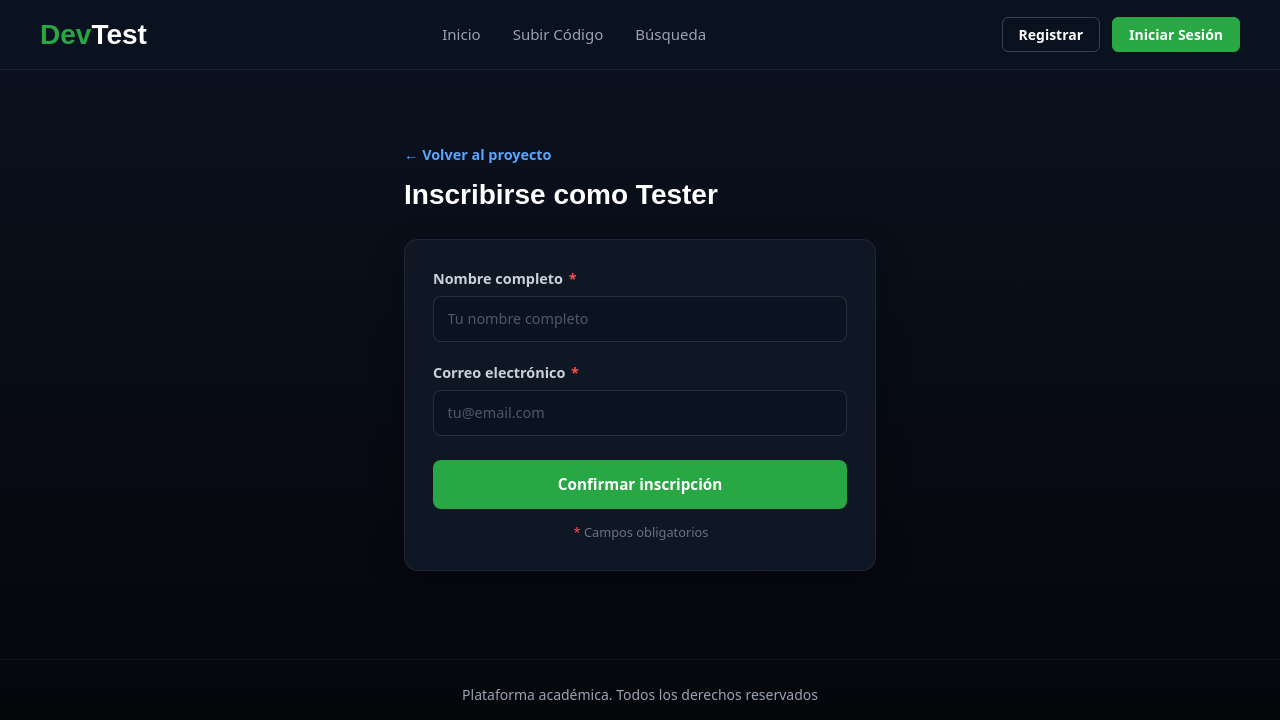
Test case: Pruebas de Integración - DT06 Seleccionar Proyecto › INT_03: Manejo de errores de conexión y duplicados
Type "Estudiante UCM" into the field named "nombre" at (640, 319), box [433,296,847,342]
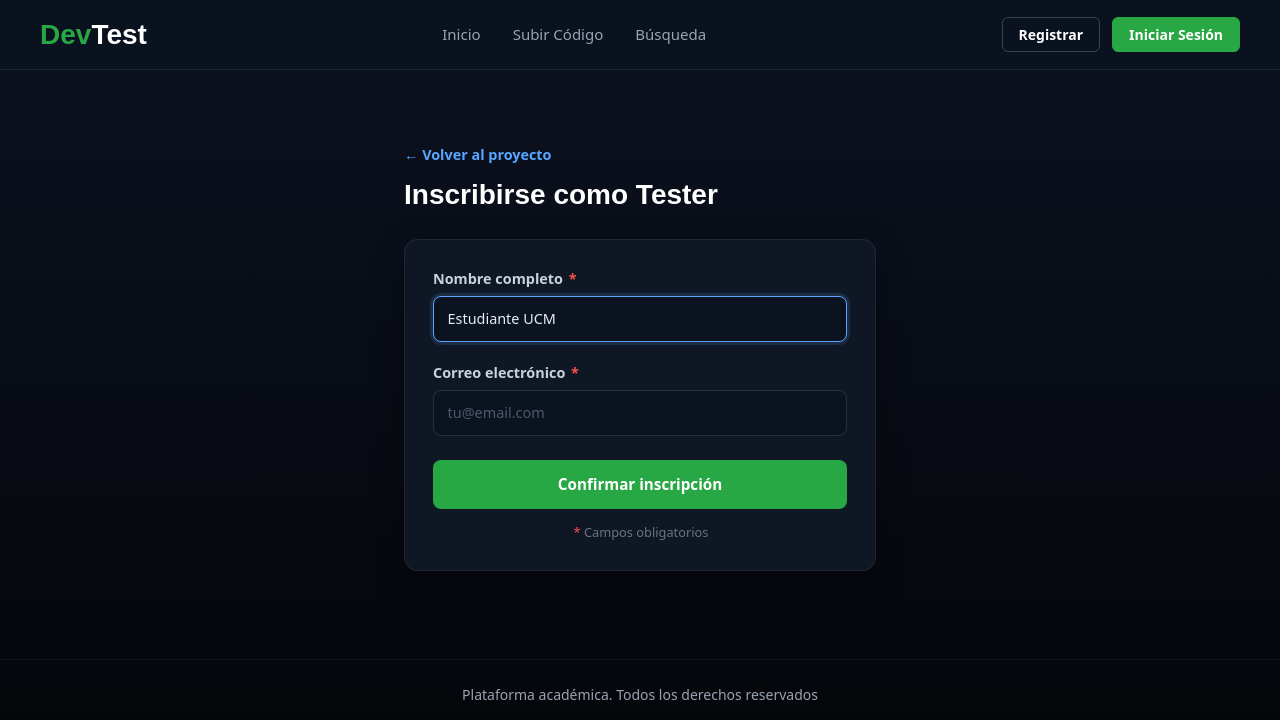
Type "duplicado@ucm.es" into the field named "correo" at (640, 413), box [433,390,847,436]
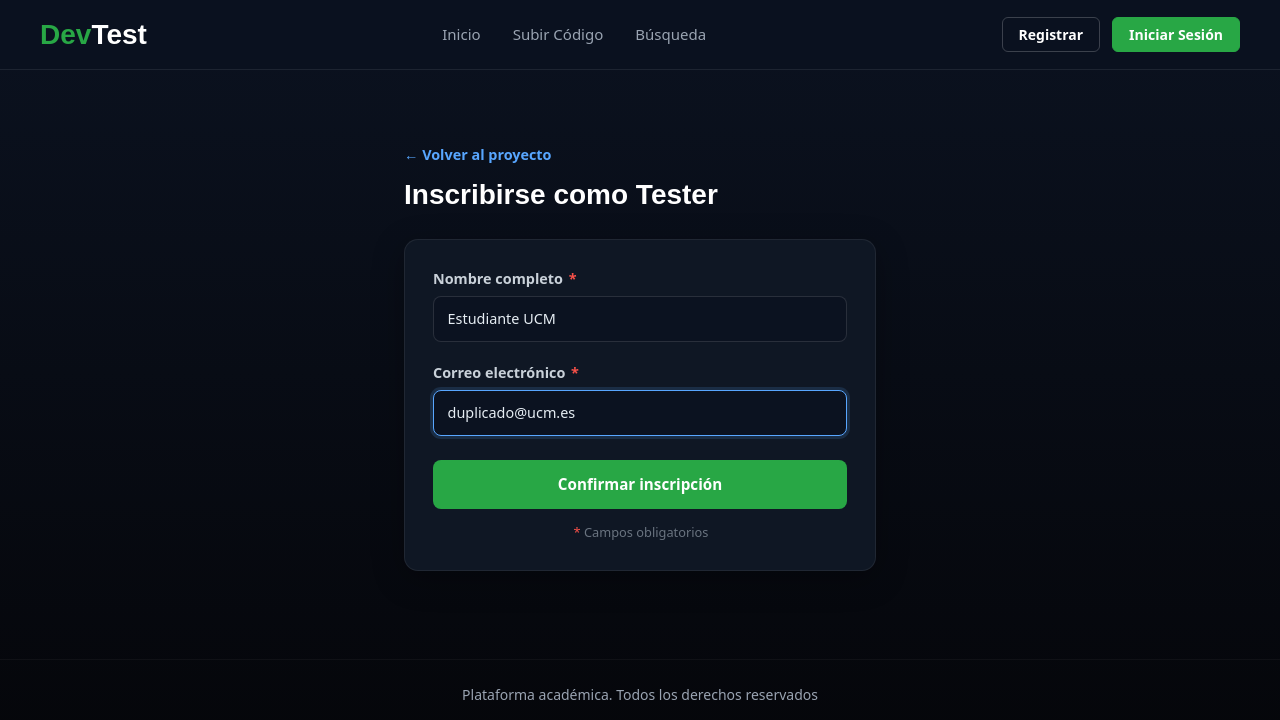
Click the submit button at (640, 484), box [433,460,847,508]
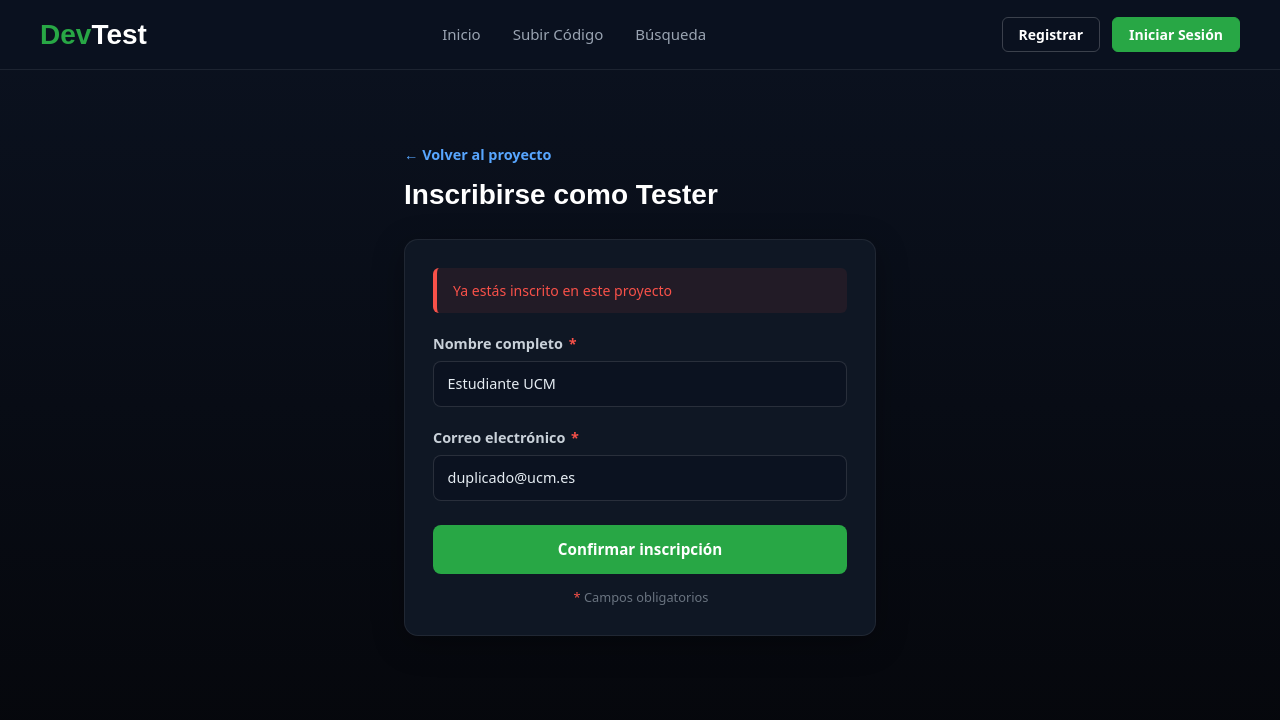
Check: the text "Ya estás inscrito en este proyecto" is shown, box [433,268,847,313]
